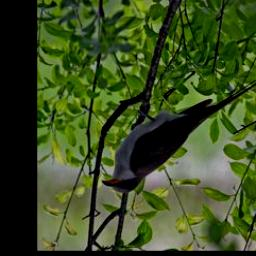Cuckoo: (99, 76, 256, 194)
